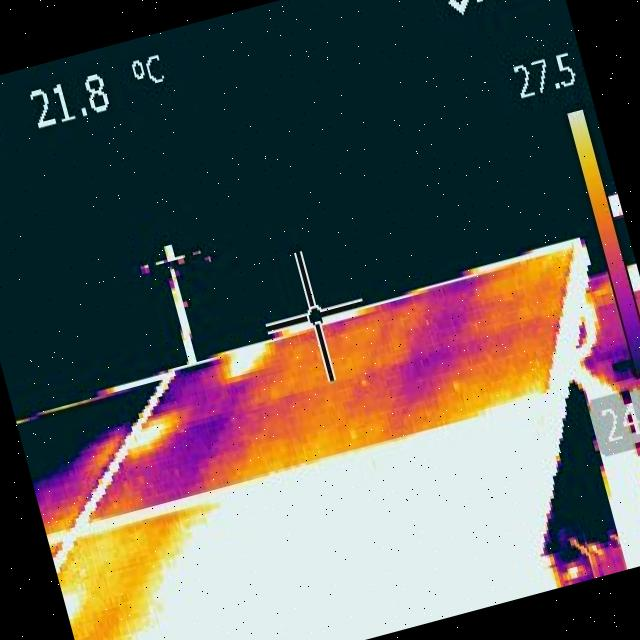Hotspot: (216, 335, 278, 385), (117, 412, 176, 459)
